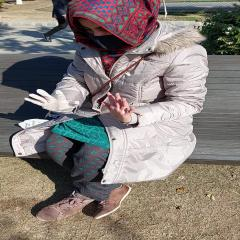gloved: (22, 88, 78, 114)
not-gloved: (101, 92, 134, 122)
